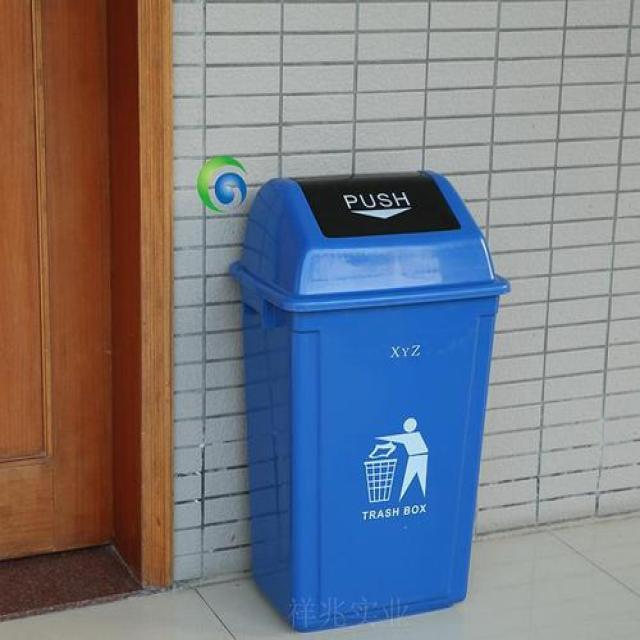garbage_bin: (227, 168, 510, 632)
